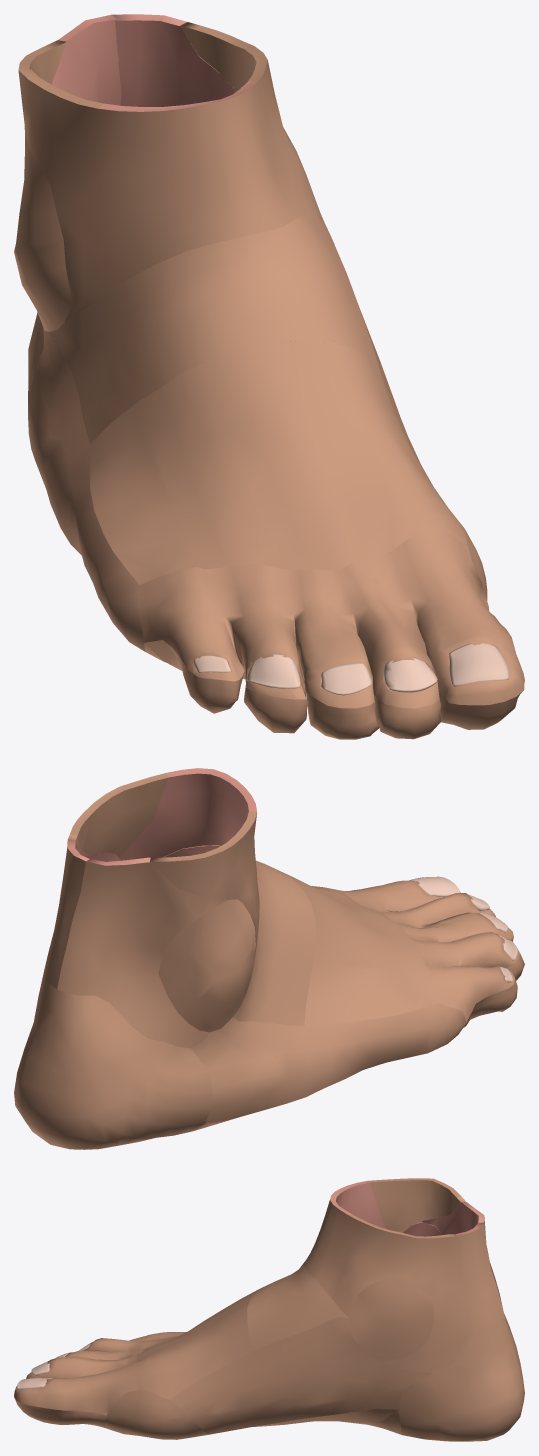
File: skin.glb
The picture shows the model from 3 angles, top to bottom: view 1: azimuth 30°, elevation 25°; view 2: azimuth 150°, elevation 25°; view 3: azimuth 270°, elevation 25°; orthographic projection. The views are drawn at different scales.
Parts seen in each view (by area): view 1: Metatarsal region.r, Anterior region of ankle.r, Dorsal surfaces of digits of foot.r, Dorsum of foot.r, Lateral border of foot.r, Plantar surfaces of digits of foot.r, Medial retromalleolar region.r, Nail plate (foot).r, Lateral malleolus.r, Lateral retromalleolar region.r; view 2: Heel region.r, Anterior region of ankle.r, Lateral retromalleolar region.r, Lateral border of foot.r, Metatarsal region.r, Dorsal surfaces of digits of foot.r, Dorsum of foot.r, Lateral malleolus.r, Medial retromalleolar region.r, Nail plate (foot).r, Plantar surfaces of digits of foot.r; view 3: Medial border of foot.r, Anterior region of ankle.r, Heel region.r, Medial retromalleolar region.r, Dorsal surfaces of digits of foot.r, Metatarsal region.r, Medial malleolus.r, Dorsum of foot.r, Hallucial eminence.r, Plantar surfaces of digits of foot.r, Lateral retromalleolar region.r, Medial part of longitudinal arch of foot.r (+3 smaller).
Boxes of the visible parts, x1,y1,x2,y2 form: Metatarsal region.r: (90,340,467,584); Anterior region of ankle.r: (18,22,324,321); Dorsal surfaces of digits of foot.r: (138,529,524,708); Dorsum of foot.r: (51,218,381,444); Lateral border of foot.r: (28,328,144,651); Plantar surfaces of digits of foot.r: (144,607,523,739); Medial retromalleolar region.r: (112,14,236,106); Nail plate (foot).r: (193,643,509,695); Lateral malleolus.r: (14,145,71,331); Lateral retromalleolar region.r: (24,14,121,150); Heel region.r: (14,971,212,1149); Anterior region of ankle.r: (67,768,259,968); Lateral retromalleolar region.r: (57,857,227,1048); Lateral border of foot.r: (191,1003,466,1123); Metatarsal region.r: (268,865,438,1025); Dorsal surfaces of digits of foot.r: (341,880,520,1022); Dorsum of foot.r: (162,845,315,1025); Lateral malleolus.r: (158,899,255,1032); Medial retromalleolar region.r: (44,840,98,989); Nail plate (foot).r: (409,876,517,982); Plantar surfaces of digits of foot.r: (426,914,524,1027); Medial border of foot.r: (170,1317,433,1434); Anterior region of ankle.r: (304,1178,465,1317); Heel region.r: (398,1313,524,1441); Medial retromalleolar region.r: (382,1222,504,1372); Dorsal surfaces of digits of foot.r: (14,1332,186,1413); Metatarsal region.r: (136,1289,258,1399); Medial malleolus.r: (349,1279,434,1361); Dorsum of foot.r: (247,1260,348,1351); Hallucial eminence.r: (104,1390,208,1439); Plantar surfaces of digits of foot.r: (14,1376,109,1427); Lateral retromalleolar region.r: (422,1202,503,1311); Medial part of longitudinal arch of foot.r: (253,1408,397,1426).
Bounding box in the file's own units: 0.1073 × 0.1267 × 0.2544.
